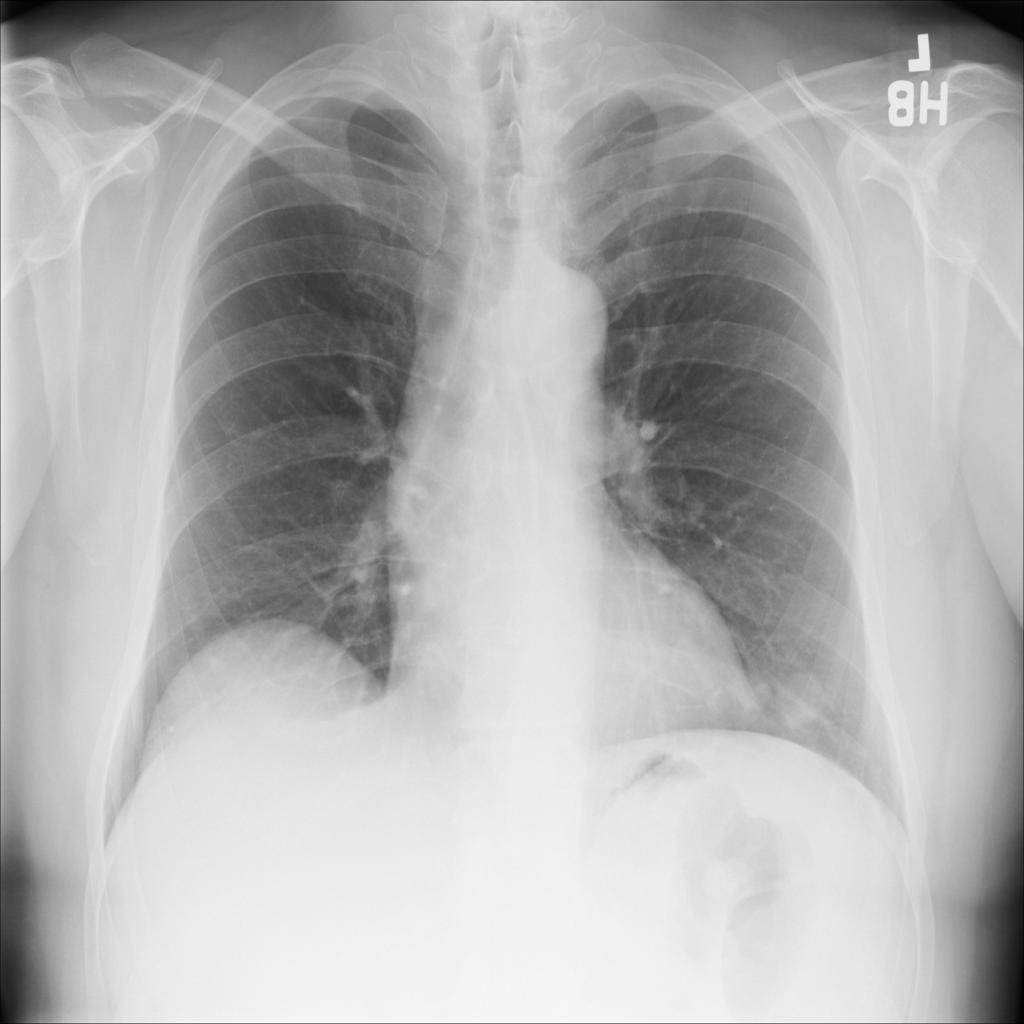nodule: (768, 659, 840, 746), (718, 654, 786, 731)
